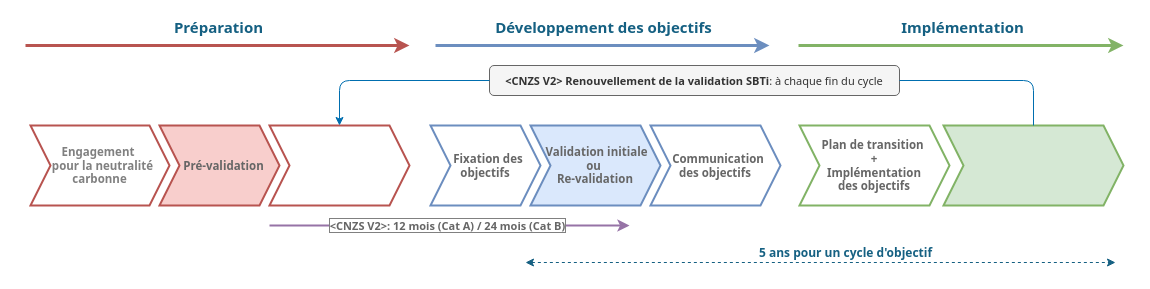
This 1150x289 diagram has some shape labels left out. The centre of each missing label's shape, as x and y in pixels:
Evaluation + Communication du progrès: point 1033,165
Performance Année de base: point 339,165
